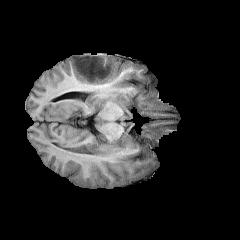glioma: (67, 56, 112, 85)
